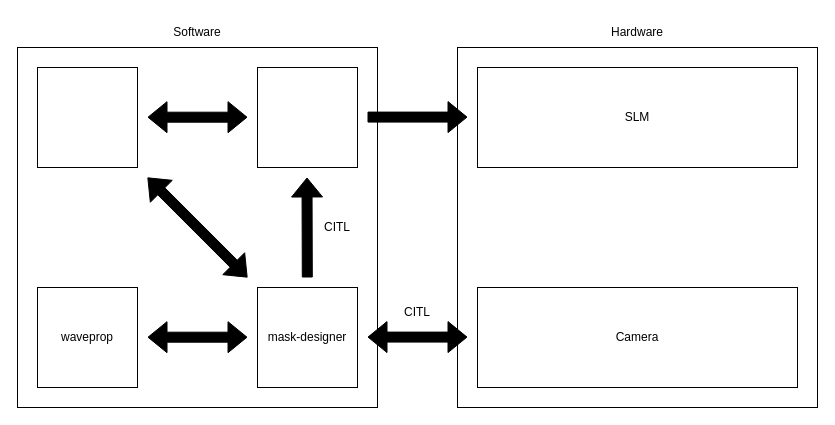
Image size: 835x425. Some labels were removed from this diagram. The shapes that lost their labels are listed below. From the top down, each one's centre as x and y in pixels, then its label:
pixel 87 117: Application
pixel 307 117: slm-controller
